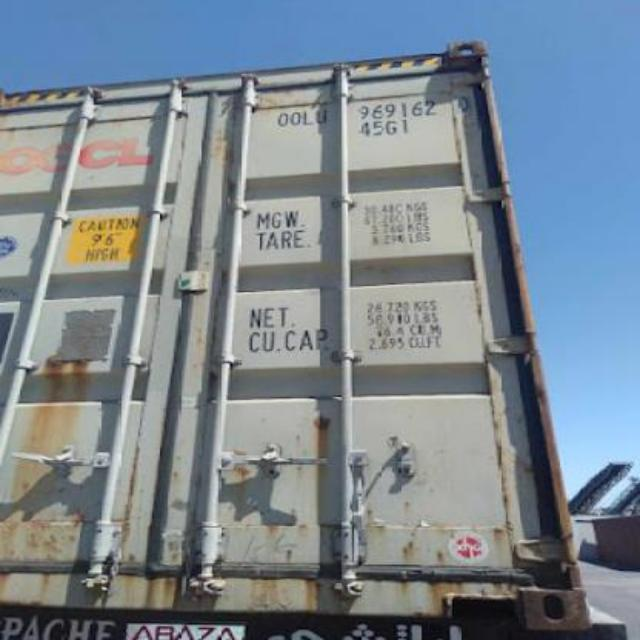0: (454, 96, 472, 112)
1: (398, 100, 410, 118)
2: (426, 98, 442, 119)
6: (406, 99, 424, 117), (372, 103, 382, 121)
9: (356, 104, 369, 120), (386, 102, 396, 120)
L: (302, 109, 314, 127)
O: (272, 112, 290, 126), (290, 111, 302, 127)
U: (314, 109, 330, 127)
